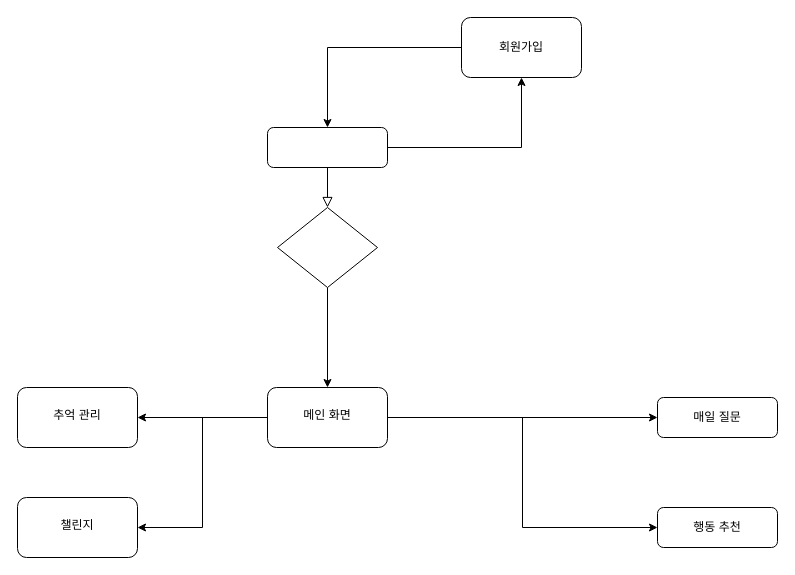
This 795x575 diagram has some shape labels left out. Each missing label, with the box of its shape:
로그인: (266, 126, 388, 168)
로그인 성공: (276, 206, 378, 288)
